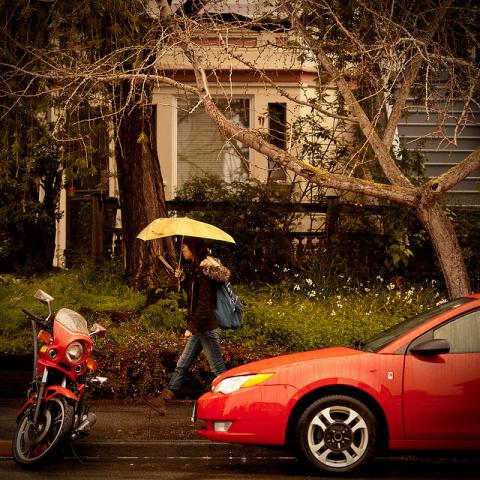car: (193, 290, 479, 466)
motorcycle: (15, 286, 100, 466)
